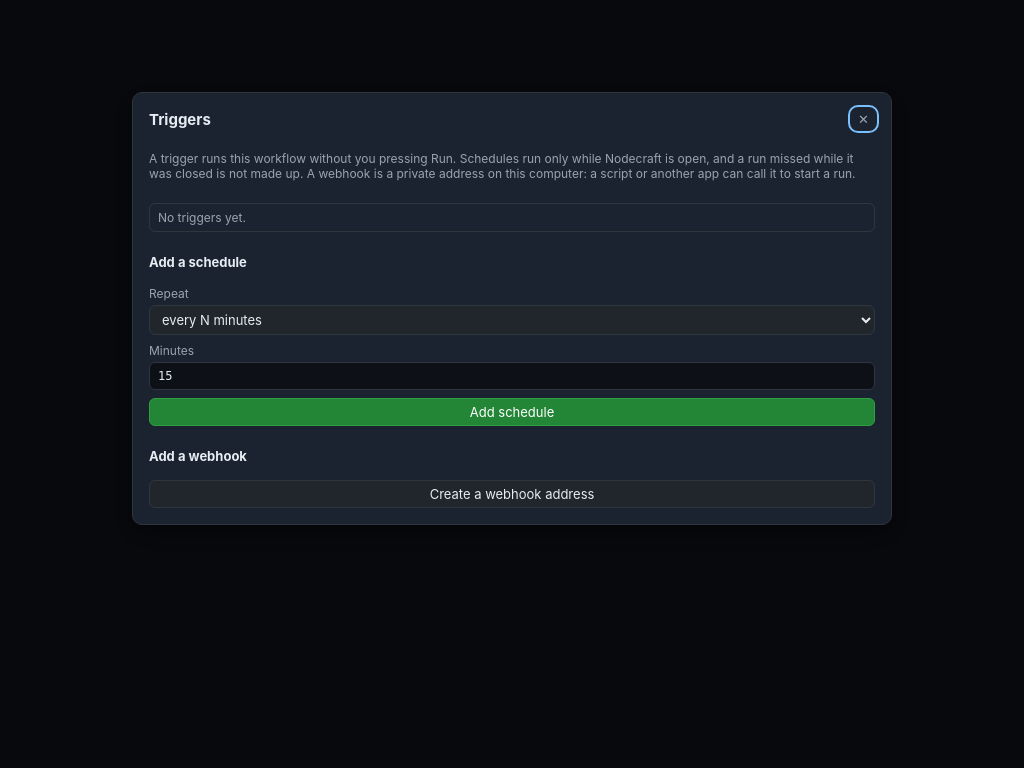
TriggersDialog › shows a new webhook address once, with a ready-made command
Click the button "Create a webhook address": coordinates (512, 494) left=149, top=480, right=875, bottom=508
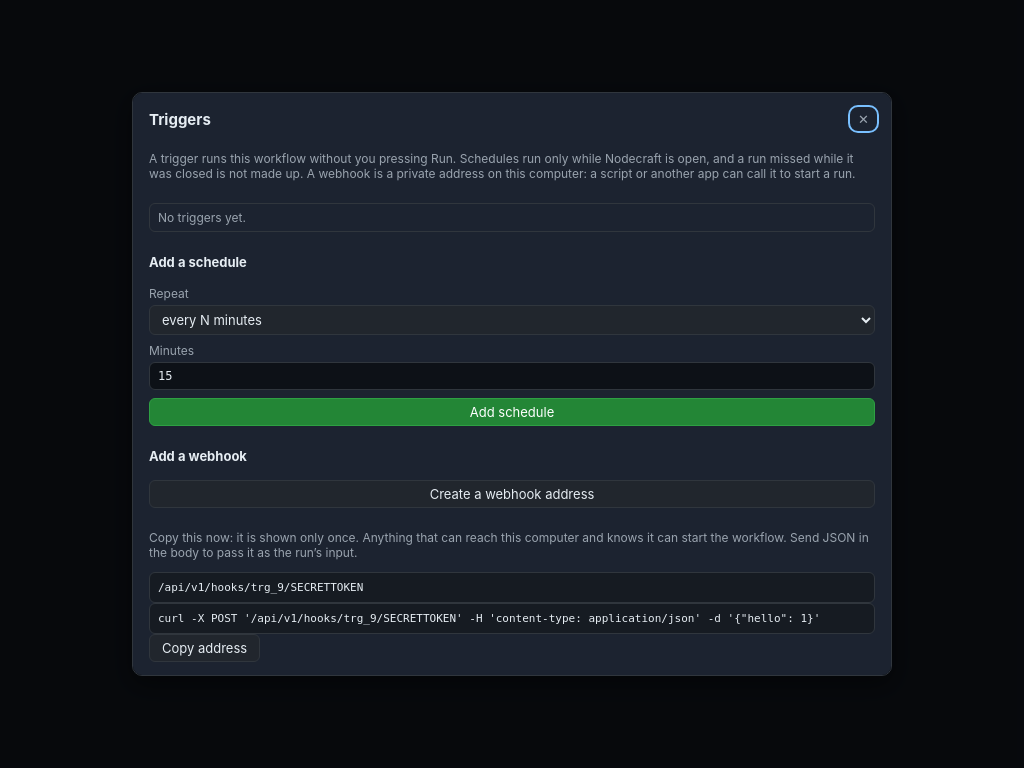
Result: the text "shown only once" is shown at left=149, top=530, right=869, bottom=560
Result: the text "/api/v1/hooks/trg_9/SECRETTOKEN" is shown at left=149, top=572, right=875, bottom=603
